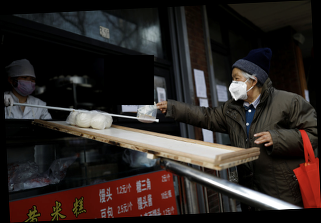with_mask: (227, 72, 251, 103), (15, 75, 37, 96)
